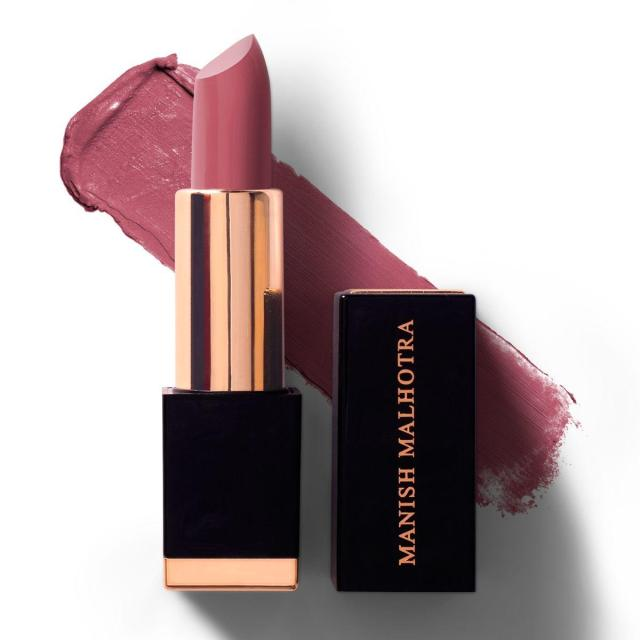lipstick: (142, 12, 319, 615)
